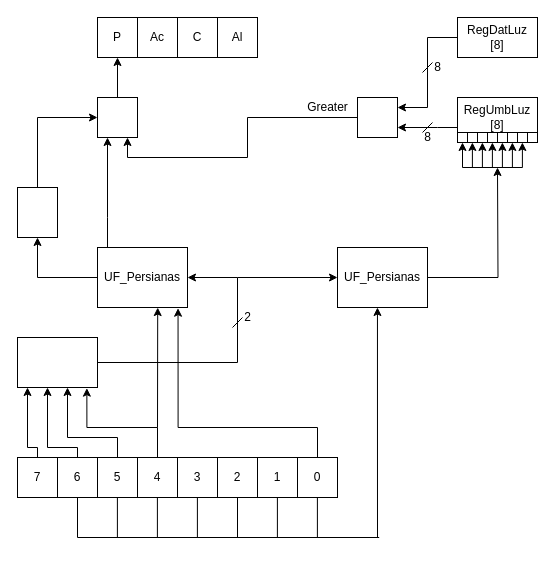
This 555x563 diagram has some shape labels left out. The centre of each missing label's shape, as x and y in pixels:
bit ctrl pers: point (37, 212)
CMP: point (377, 117)
decodMsg: point (57, 362)
MUX: point (117, 117)
